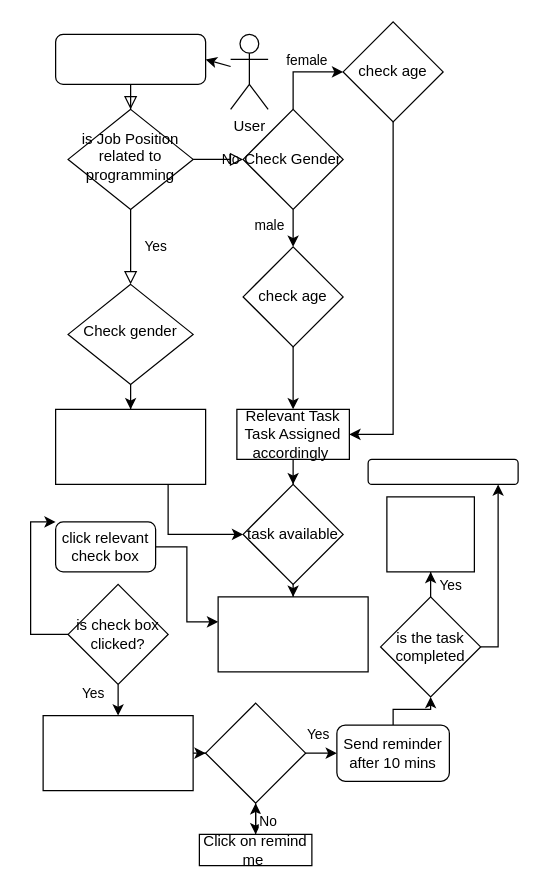
Some shapes in this 540 by 890 pixel diagram are drawn without their labels. The shapes that lost their labels are listed below. From the top down, each one's centre as x and y in pixels, then its label:
the point at 130,58: Input User Information
the point at 130,446: Task is assigned relevant to software engineer irrelevant to gender and age.
the point at 442,471: Send reminder again
the point at 430,534: Unclick the task and remove from notification
the point at 292,634: change Motivation task text to the relevant users profile
the point at 117,752: add task list in the remind me while notification is on
the point at 255,752: Is the remind me clicked
